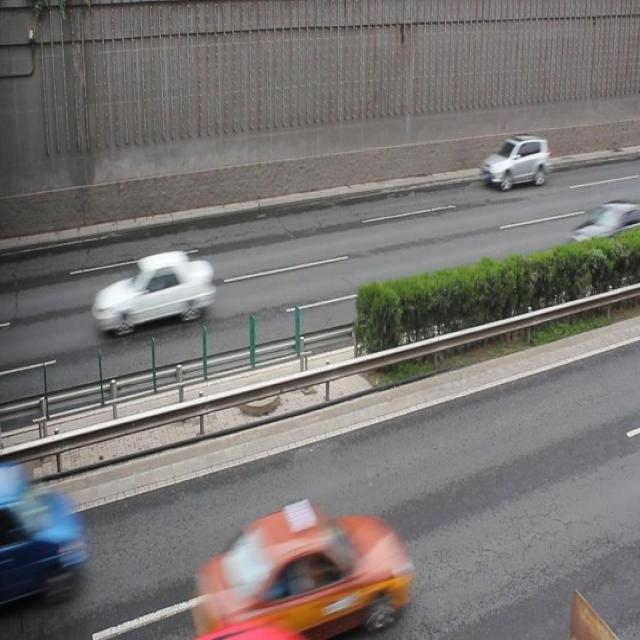car: (196, 499, 410, 634), (90, 254, 216, 334), (570, 204, 640, 259), (482, 133, 548, 190)
